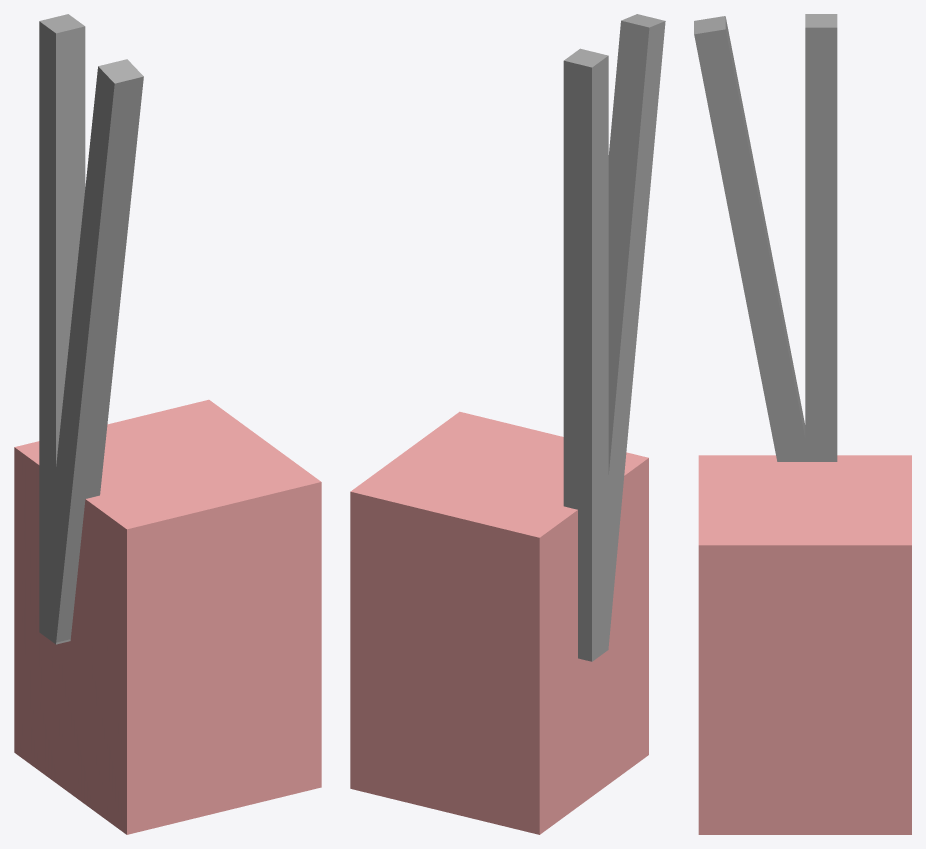
File: LIS_ropen_hook1.dae
3 views of the same model, side by side, from view 1: azimuth 30°, elevation 25°; view 2: azimuth 150°, elevation 25°; view 3: azimuth 270°, elevation 25° (orthographic). The views are drawn at different scales.
Parts seen in each view (by area): view 1: BASE_LINK (×3); view 2: BASE_LINK (×3); view 3: BASE_LINK (×3).
Boxes of the visible parts, x1,y1,x2,y2 form: BASE_LINK (×3): (14,14,321,834); BASE_LINK (×3): (350,14,665,834); BASE_LINK (×3): (694,14,911,834).
Bounding box in the file's own units: 0.043 × 0.0409 × 0.15.
